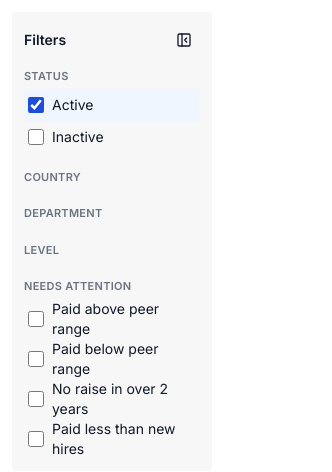
Scenario: EmployeeFilterPanel › still works when the browser refuses access to storage
Click the button named "Hide filters": click(184, 40) [168,24,200,56]
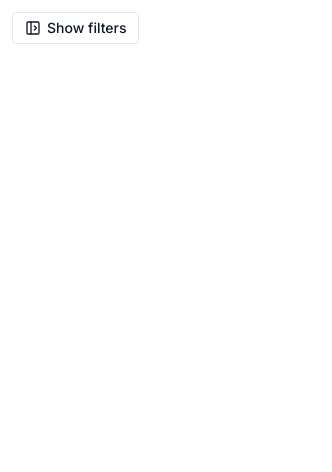
Result: the button "Show filters" is shown at [12,12,140,44]
